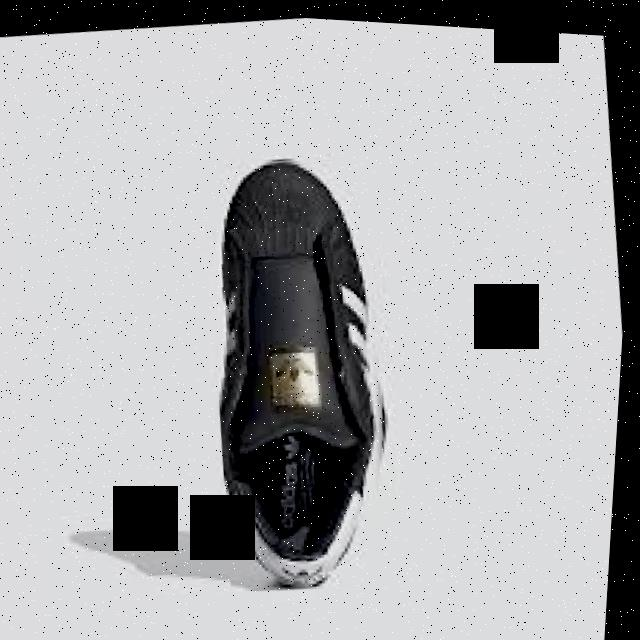shoe: (186, 138, 431, 597)
